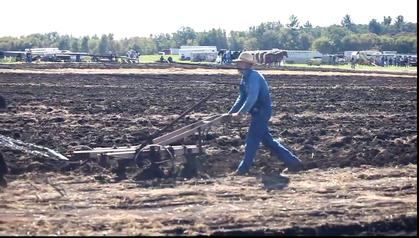down: (249, 157, 295, 185)
sit: (249, 157, 295, 185)
